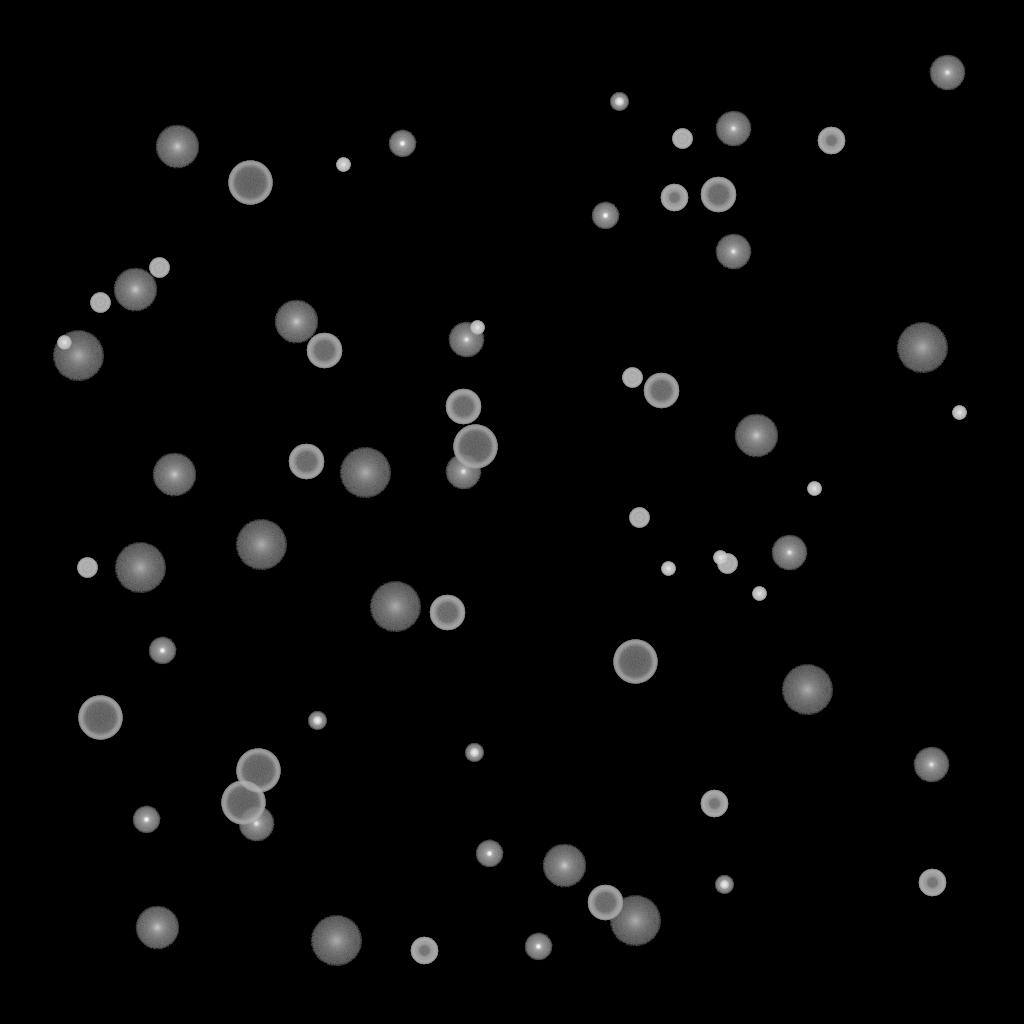depth:-10: (524, 933, 552, 961), (591, 202, 619, 230), (148, 637, 176, 665), (388, 130, 416, 158), (475, 840, 503, 868), (132, 806, 160, 834)
depth:-20: (308, 712, 326, 730), (610, 93, 628, 111), (715, 876, 733, 894), (465, 744, 483, 762)
depth:-30: (470, 321, 484, 335), (57, 336, 71, 350), (807, 482, 821, 496), (661, 562, 675, 576), (752, 587, 766, 601), (336, 158, 350, 172), (952, 406, 966, 420), (713, 551, 727, 565)
depth:-40: (90, 293, 110, 313), (672, 129, 692, 149), (629, 508, 649, 528), (717, 554, 737, 574), (149, 258, 169, 278), (622, 368, 642, 388), (77, 558, 97, 578)
depth:-50: (660, 184, 688, 212), (918, 869, 946, 897), (817, 127, 845, 155), (410, 937, 438, 965), (700, 790, 728, 818)
depth:-60: (445, 389, 481, 425), (643, 373, 679, 409), (700, 177, 736, 213), (429, 595, 465, 631), (288, 444, 324, 480), (587, 885, 623, 921), (306, 333, 342, 369)
depth:-70: (236, 749, 280, 793), (453, 425, 497, 469), (221, 781, 265, 825), (613, 640, 657, 684), (78, 696, 122, 740), (228, 161, 272, 205)
depth:0: (445, 454, 481, 490), (448, 322, 484, 358), (929, 55, 965, 91), (715, 111, 751, 147), (771, 535, 807, 571), (913, 747, 949, 783), (238, 806, 274, 842), (715, 234, 751, 270)
depth:10: (152, 453, 196, 497), (274, 300, 318, 344), (542, 844, 586, 888), (155, 125, 199, 169), (734, 414, 778, 458), (135, 906, 179, 950), (113, 268, 157, 312)
depth:20: (781, 665, 833, 715), (114, 543, 166, 593), (896, 323, 948, 373), (310, 916, 362, 966), (235, 520, 287, 570), (609, 896, 661, 946), (52, 331, 104, 381), (339, 448, 391, 498), (369, 582, 421, 632)
